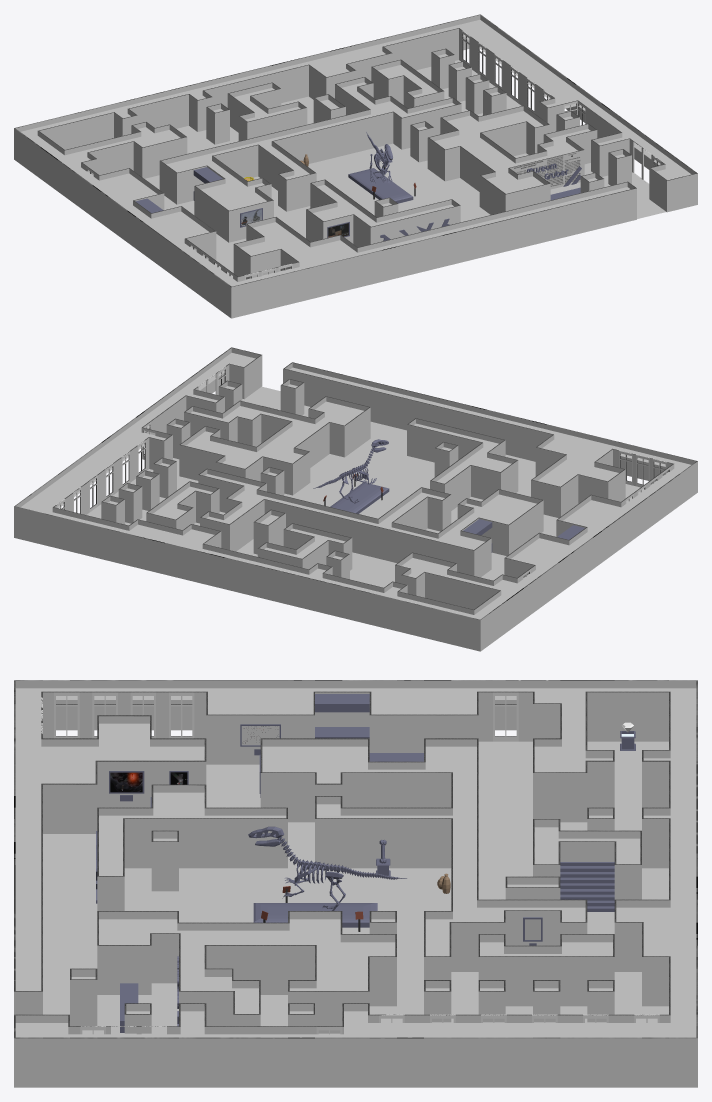
Rendered from fullmap_v1.gltf.
The picture shows the model from 3 angles, top to bottom: view 1: azimuth 30°, elevation 25°; view 2: azimuth 150°, elevation 25°; view 3: azimuth 270°, elevation 25°; orthographic projection. The views are drawn at different scales.
Parts seen in each view (by area): view 1: MAIN, borderwall, TOPDECKEL, InnerBorder, Cube.008, Rips, newspaper; view 2: MAIN, borderwall, TOPDECKEL, InnerBorder, Cube.008, Rips, Plane.005; view 3: MAIN, TOPDECKEL, borderwall, InnerBorder, Staircase, Rips, Cube.008, Cube.004, painting1, Cube.001.
Boxes of the visible parts, left/top/right/bottom form: MAIN: left=37, top=28, right=666, bottom=281; borderwall: left=14, top=14, right=697, bottom=318; TOPDECKEL: left=66, top=29, right=672, bottom=266; InnerBorder: left=21, top=20, right=691, bottom=286; Cube.008: left=348, top=168, right=413, bottom=203; Rips: left=366, top=132, right=392, bottom=183; newspaper: left=514, top=153, right=580, bottom=186; MAIN: left=52, top=355, right=674, bottom=614; borderwall: left=14, top=347, right=697, bottom=651; TOPDECKEL: left=39, top=362, right=619, bottom=595; InnerBorder: left=20, top=353, right=690, bottom=619; Cube.008: left=330, top=483, right=389, bottom=513; Rips: left=313, top=439, right=388, bottom=503; Plane.005: left=619, top=451, right=666, bottom=487; MAIN: left=15, top=691, right=670, bottom=1034; TOPDECKEL: left=43, top=700, right=668, bottom=1033; borderwall: left=14, top=680, right=697, bottom=1087; InnerBorder: left=15, top=688, right=696, bottom=1037; Staircase: left=560, top=862, right=614, bottom=911; Rips: left=248, top=826, right=406, bottom=910; Cube.008: left=253, top=903, right=377, bottom=927; Cube.004: left=315, top=694, right=369, bottom=712; painting1: left=110, top=772, right=142, bottom=792; Cube.001: left=315, top=727, right=369, bottom=738.
Size of the model in its own units: 6.22 by 0.7695 by 5.02.
